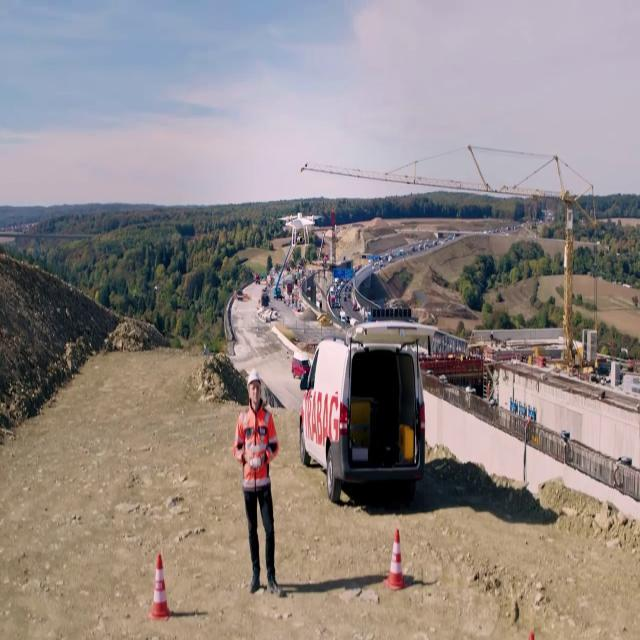drones: (269, 203, 323, 249)
